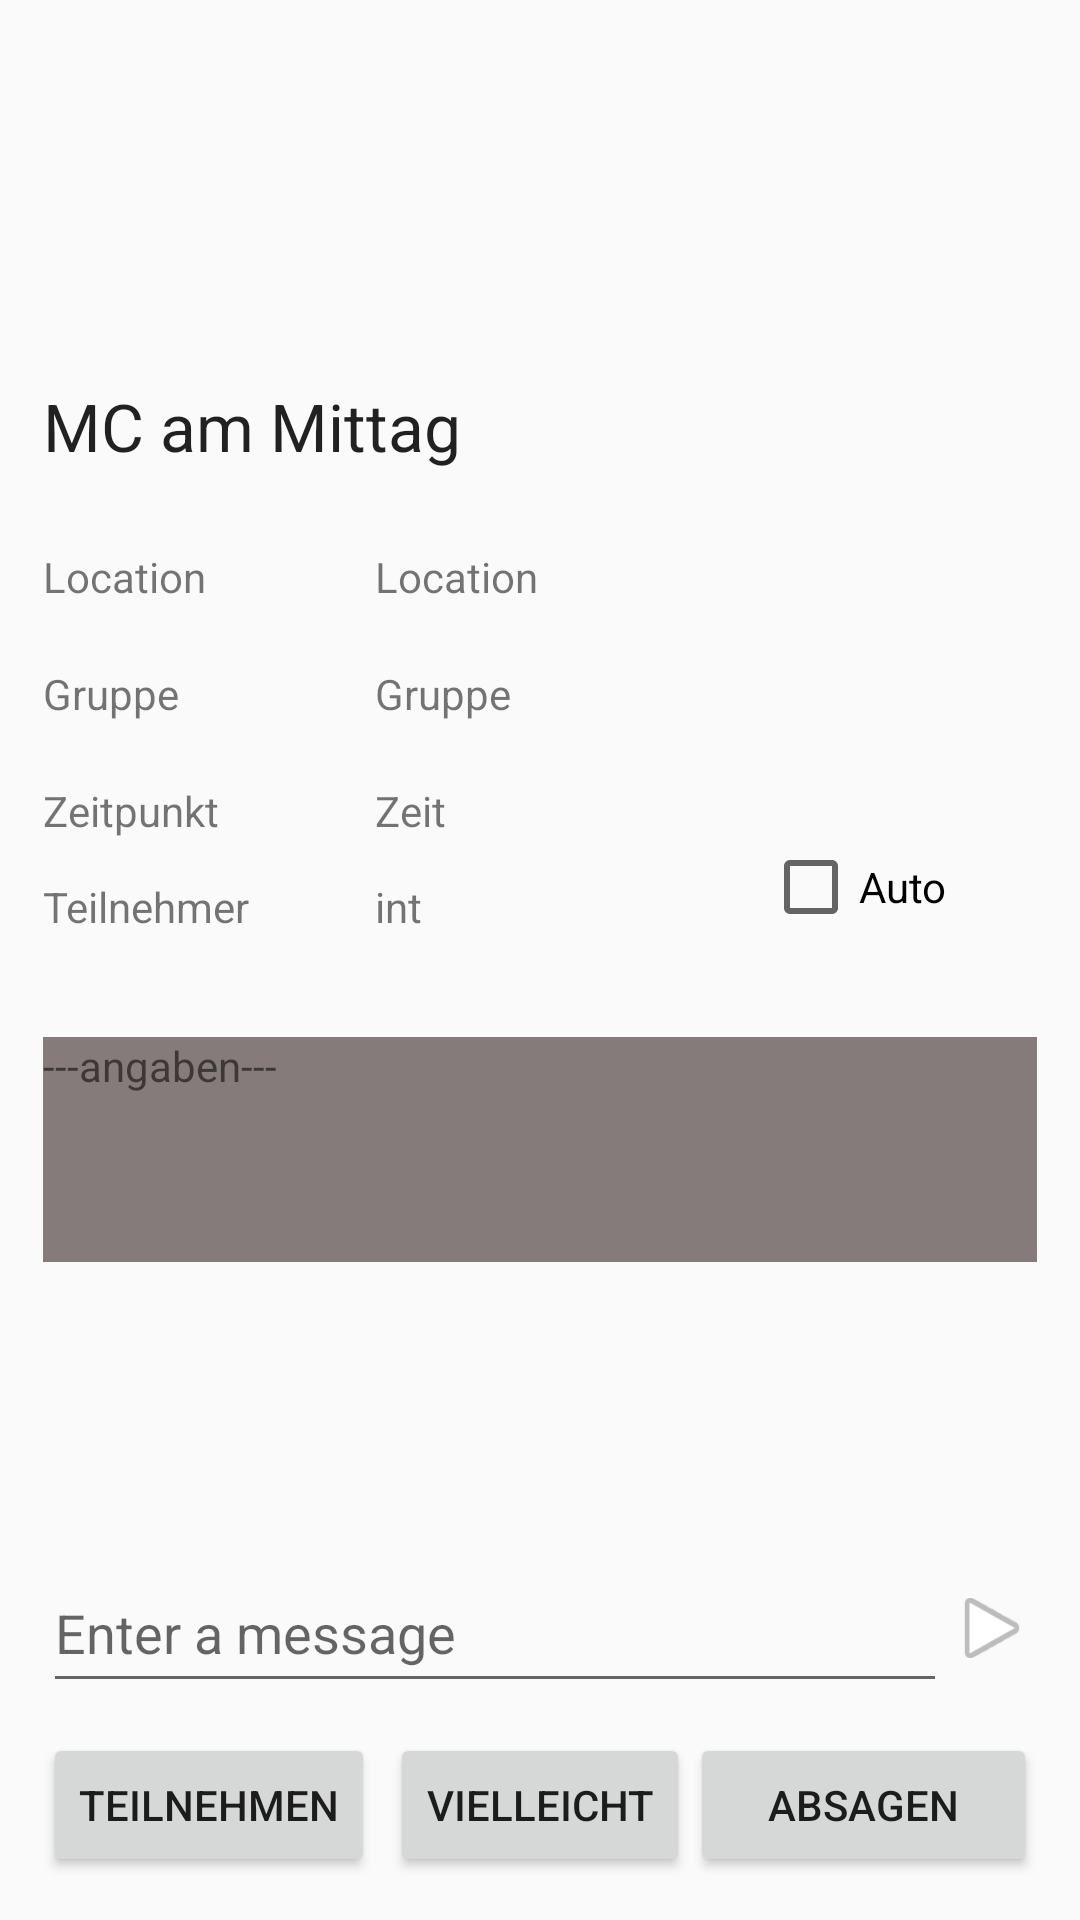

Where to tap for icons on this 1080w x 1920h app screen, as [x,y]:
play: [992,1628]
